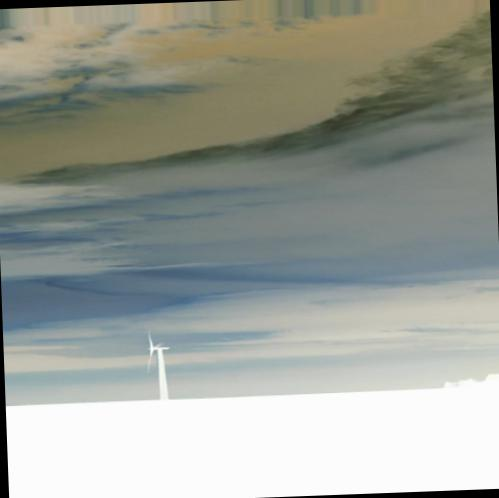wind turbine: (142, 329, 174, 401)
